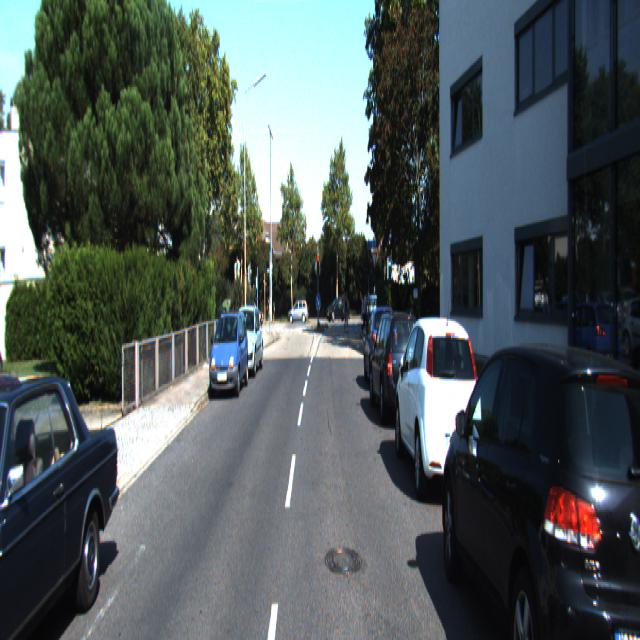Car: (440, 319, 640, 638), (0, 355, 126, 638), (393, 311, 486, 508), (369, 307, 426, 432), (208, 309, 249, 399), (363, 303, 401, 393), (229, 303, 264, 380)
